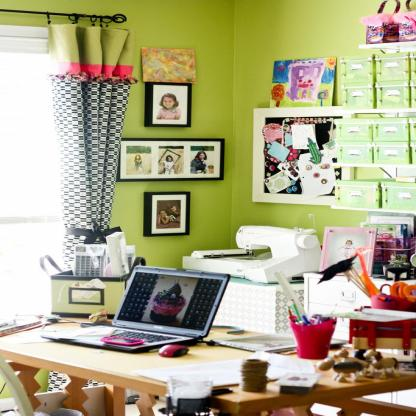board: (40, 264, 233, 352)
